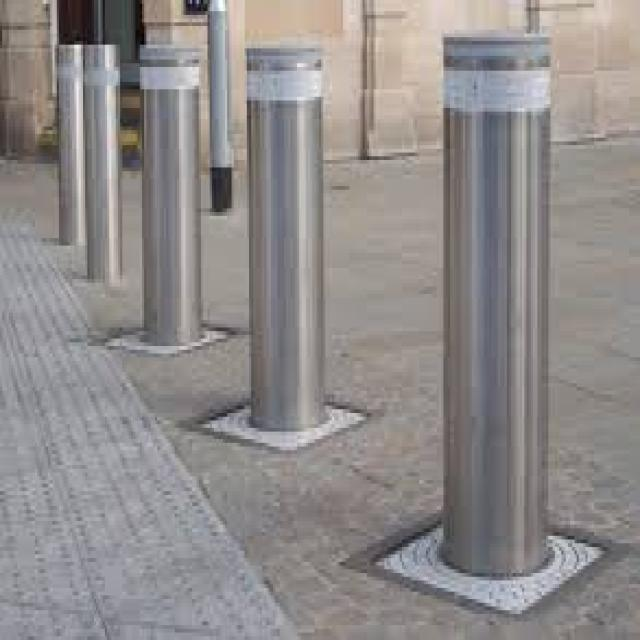bollard: (431, 14, 561, 605), (240, 26, 348, 444), (135, 31, 215, 371), (83, 33, 125, 306), (52, 24, 86, 256)
